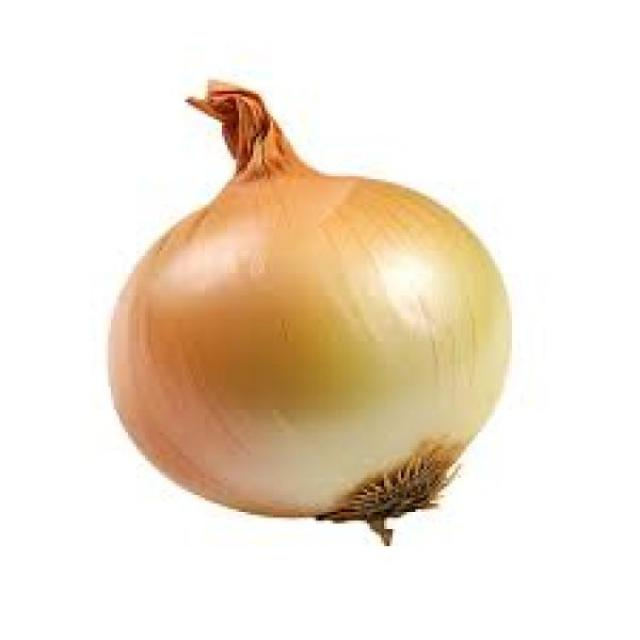Onion: (106, 80, 514, 538)
